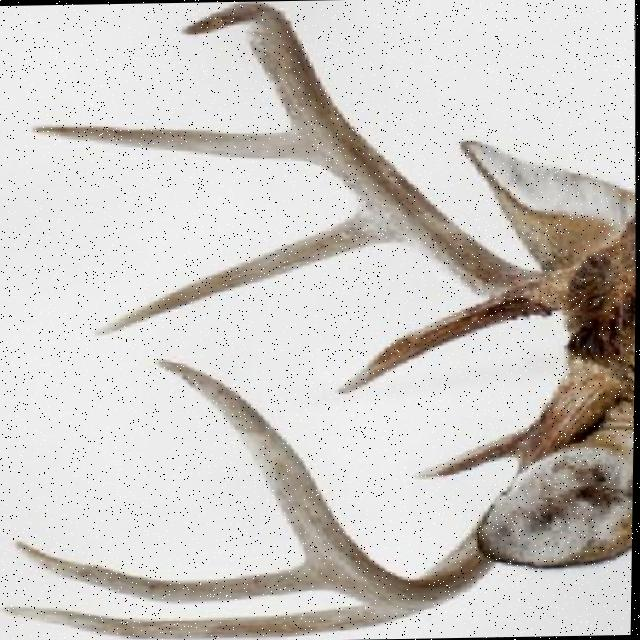L-G1: (410, 426, 532, 480)
L-G2: (0, 603, 408, 640)
L-G3: (14, 540, 330, 602)
R-F: (180, 2, 576, 317)
R-G1: (334, 298, 532, 395)
R-G2: (92, 213, 394, 336)
R-G3: (29, 124, 305, 160)
